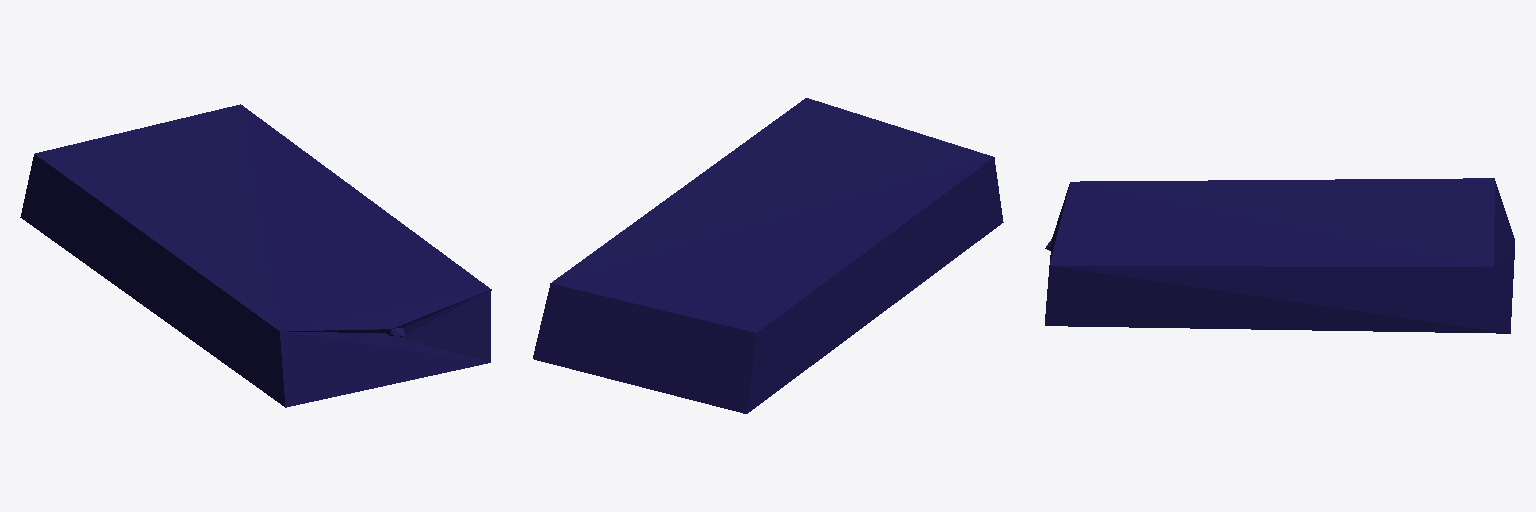
The robot description file, URDF, robot "blob570":

<robot name="blob570">
  <link name="random_obj_570">
    <contact>
      <lateral_friction value="1.0"/>
      <rolling_friction value="0.0"/>
      <inertia_scaling value="3.0"/>
      <contact_cfm value="0.0"/>
      <contact_erp value="1.0"/>
    </contact>
    <inertial>
      <origin rpy="0 0 0" xyz="0 0 0"/>
      <mass value="0.1077"/>
      <inertia ixx="1" ixy="0" ixz="0" iyy="1" iyz="0" izz="0"/>
    </inertial>
    <visual>
      <origin rpy="0 0 0" xyz="0 0 0"/>
      <geometry>
        <mesh filename="570.obj" scale="0.0078 0.0078 0.0078"/>
      </geometry>
      <material name="blockmat">
        <color rgba="0.16 0.14 0.39 1"/>
      </material>
    </visual>
    <collision>
      <origin rpy="0 0 0" xyz="0 0 0"/>
      <geometry>
        <mesh filename="570_coll.obj" scale="0.0078 0.0078 0.0078"/>
      </geometry>
    </collision>
  </link>
</robot>

--- Render facts (derived) ---
3 views of the same robot in one strip: view 1: azimuth 30°, elevation 25°; view 2: azimuth 150°, elevation 25°; view 3: azimuth 270°, elevation 25° (orthographic).
Robot: blob570 — 1 links, 0 joints (none); root link random_obj_570; default pose: all joints at 0.
Visible links, largest first — view 1: random_obj_570; view 2: random_obj_570; view 3: random_obj_570.
Link boxes in pixels (x1=…): random_obj_570: x1=20, y1=104, x2=491, y2=407; random_obj_570: x1=533, y1=98, x2=1003, y2=413; random_obj_570: x1=1045, y1=178, x2=1514, y2=333.
Bounding box of the posed robot: 0.0457 × 0.0977 × 0.02 m (x, y, z).
Meshes: 1 distinct files referenced, 1 mesh visuals loaded (1 OBJ).
